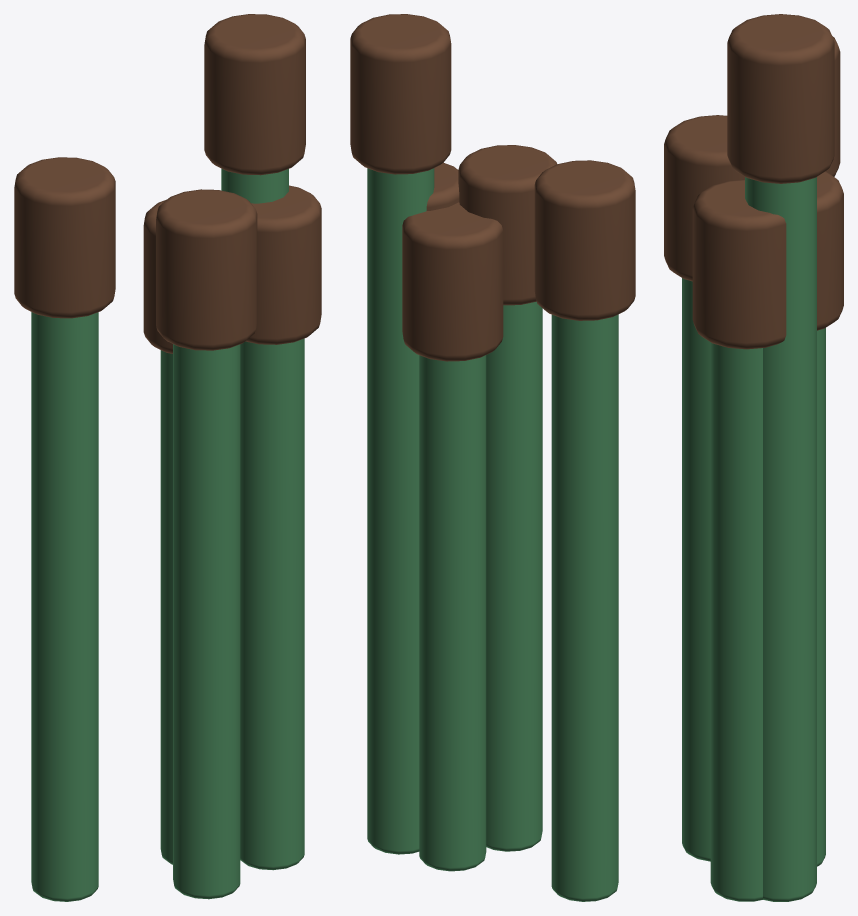
Rendered from prop_uw_reeds_a.glb.
The picture shows the model from 3 angles, left to right: view 1: azimuth 30°, elevation 25°; view 2: azimuth 150°, elevation 25°; view 3: azimuth 270°, elevation 25°; orthographic projection. The views are drawn at different scales.
Visible parts, largest first — view 1: uwra_s4, uwra_s1, uwra_s3, uwra_h1, uwra_h4, uwra_h0, uwra_h3, uwra_s2, uwra_h2, uwra_s0; view 2: uwra_s4, uwra_s2, uwra_s0, uwra_s1, uwra_h4, uwra_h0, uwra_h2, uwra_h1, uwra_h3; view 3: uwra_s0, uwra_s3, uwra_h0, uwra_s1, uwra_h3, uwra_h1, uwra_s2, uwra_h2, uwra_h4.
Boxes of the visible parts, x1=… form: uwra_s4: x1=31, y1=312, x2=98, y2=901; uwra_s1: x1=173, y1=344, x2=240, y2=899; uwra_s3: x1=240, y1=338, x2=304, y2=870; uwra_h1: x1=156, y1=189, x2=257, y2=350; uwra_h4: x1=14, y1=157, x2=115, y2=318; uwra_h0: x1=204, y1=14, x2=305, y2=175; uwra_h3: x1=245, y1=185, x2=321, y2=344; uwra_s2: x1=160, y1=350, x2=172, y2=864; uwra_h2: x1=143, y1=199, x2=172, y2=353; uwra_s0: x1=221, y1=168, x2=288, y2=203; uwra_s4: x1=551, y1=314, x2=618, y2=901; uwra_s2: x1=419, y1=355, x2=486, y2=871; uwra_s0: x1=367, y1=168, x2=434, y2=854; uwra_s1: x1=486, y1=301, x2=542, y2=851; uwra_h4: x1=534, y1=160, x2=635, y2=320; uwra_h0: x1=350, y1=14, x2=451, y2=174; uwra_h2: x1=402, y1=202, x2=503, y2=361; uwra_h1: x1=458, y1=145, x2=556, y2=305; uwra_h3: x1=426, y1=162, x2=459, y2=210; uwra_s0: x1=745, y1=177, x2=816, y2=901; uwra_s3: x1=710, y1=342, x2=762, y2=901; uwra_h0: x1=727, y1=14, x2=834, y2=183; uwra_s1: x1=682, y1=278, x2=710, y2=861; uwra_h3: x1=692, y1=179, x2=786, y2=349; uwra_h1: x1=664, y1=115, x2=744, y2=281; uwra_s2: x1=817, y1=328, x2=825, y2=866; uwra_h2: x1=817, y1=171, x2=843, y2=330; uwra_h4: x1=825, y1=36, x2=840, y2=176.
Bounding box in the file's own units: 0.2993 × 0.8432 × 0.1605.
